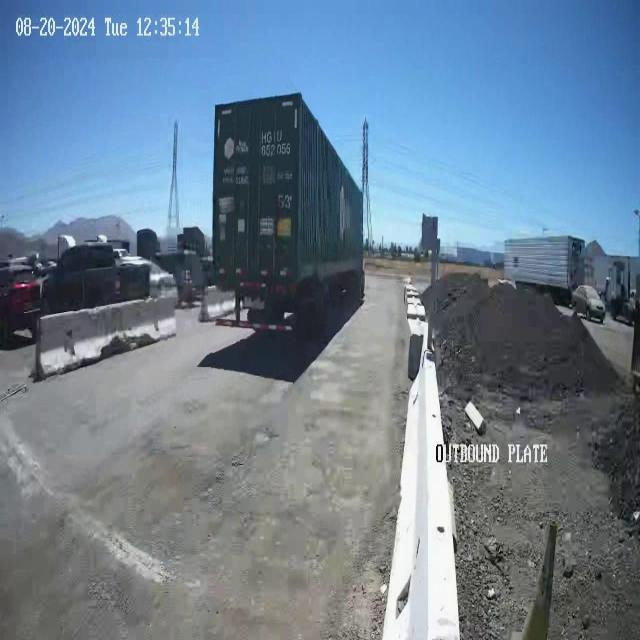TRUCK_CONTAINER: (212, 91, 364, 336)
